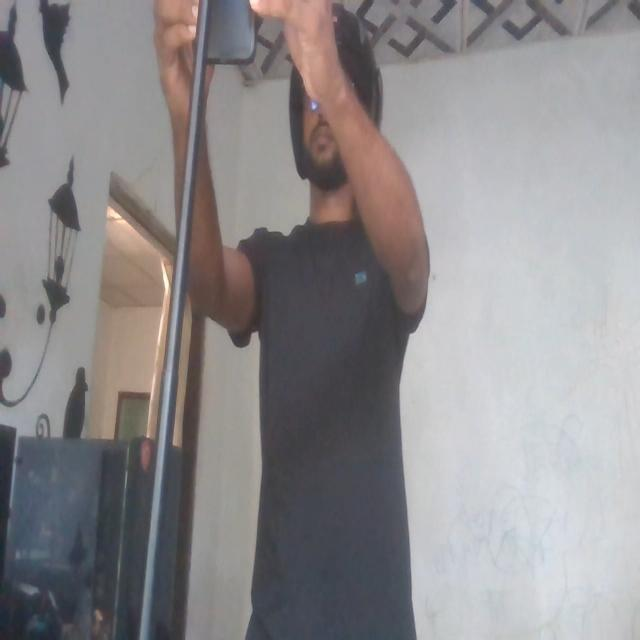Helmet_Wearer: (284, 0, 411, 201)
Person: (160, 0, 446, 640)
